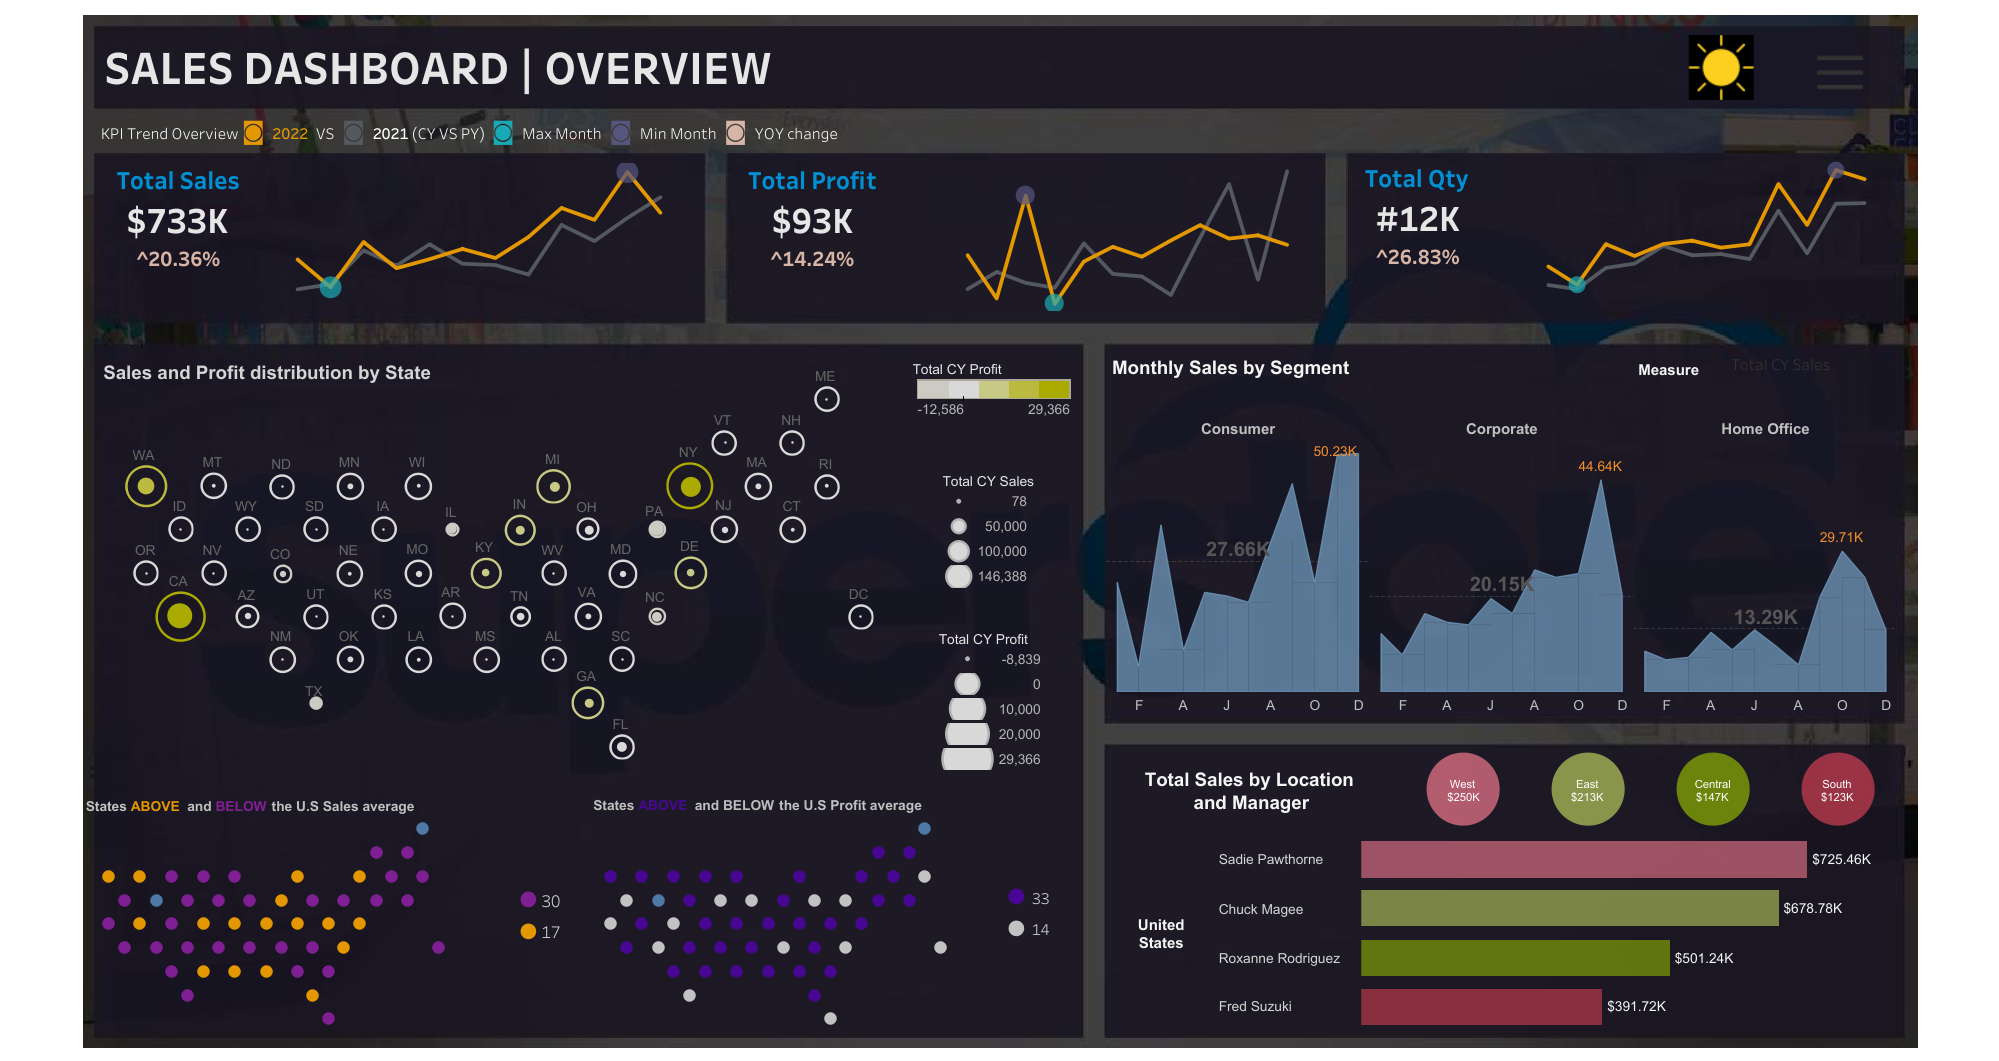

What the dashboard file says about the page in this screenshot:
{"tool":"tableau","page":{"name":"Sales Dashboard","canvas":[1600,850],"ordinal":0},"visuals":[{"type":"image","param":"Image/Sales Dashboard Background2.jpg","box":[8,8,1584,834]},{"type":"text","box":[81,15,674,74]},{"type":"dashboard-object","box":[1331,28,93,52]},{"type":"dashboard-object","box":[1452,38,40,41]},{"type":"filter","title":"Sales and Profit by State","param":"[federated.1pzyr8e11kxqex18cvanc1k8l3iu].[none:Category:nk]","box":[1274,39,177,61]},{"type":"text","box":[78,78,703,53]},{"type":"filter","title":"Sales and Profit by State","param":"[federated.1pzyr8e11kxqex18cvanc1k8l3iu].[none:Region:nk]","box":[1274,100,177,61]},{"type":"worksheet","title":"Qty KPI ","mark":"Automatic","box":[1081,125,130,129]},{"type":"worksheet","title":"Qty Sparkline ","mark":"Automatic","rows":["min max month (copy)_412923808393756688"],"cols":["Order Date"],"box":[1211,125,307,129]},{"type":"worksheet","title":"Sales KPI","mark":"Automatic","box":[79,126,148,126]},{"type":"worksheet","title":"Sales Sparkline","mark":"Automatic","rows":["Calculation_412923808385138702"],"cols":["Order Date"],"box":[227,126,331,126]},{"type":"worksheet","title":"Profit KPI","mark":"Automatic","box":[586,126,160,126]},{"type":"worksheet","title":" Profit Sparkline ","mark":"Automatic","rows":["min max month (copy)_412923808390266895"],"cols":["Order Date"],"box":[746,126,310,126]},{"type":"filter","title":"Sales and Profit by State","param":"[federated.1pzyr8e11kxqex18cvanc1k8l3iu].[none:Ship Mode:nk]","box":[1274,161,177,61]},{"type":"text","box":[887,279,255,30]},{"type":"text","box":[1308,281,100,30]},{"type":"parameter","param":"[Parameters].[Parameter 1]","box":[1383,282,137,29]},{"type":"text","box":[80,283,393,30]},{"type":"worksheet","title":"Sales and Profit by State","mark":"Circle","rows":["Row"],"cols":["Column","Column"],"box":[72,285,655,347]},{"type":"legend","title":"Sales and Profit by State","param":"[federated.1pzyr8e11kxqex18cvanc1k8l3iu].[sum:Total CY Sales (copy)_412923808376","box":[730,285,131,88]},{"type":"worksheet","title":"Monthly Sales by Segment","mark":"Area","rows":["Calculation_412923809112645655"],"cols":["Segment","Order Date"],"box":[885,333,633,241]},{"type":"legend","title":"Sales and Profit by State","param":"[federated.1pzyr8e11kxqex18cvanc1k8l3iu].[sum:Calculation_412923808258453504:qk]","box":[753,377,101,106]},{"type":"legend","title":"Sales and Profit by State","param":"[federated.1pzyr8e11kxqex18cvanc1k8l3iu].[sum:Total CY Sales (copy)_412923808376","box":[750,503,111,127]},{"type":"worksheet","title":"Region wise Sales","mark":"Circle","cols":["Region"],"box":[1121,600,399,63]},{"type":"text","box":[892,605,215,56]},{"type":"text","box":[472,629,317,30]},{"type":"text","box":[66,630,327,30]},{"type":"worksheet","title":"Avg Sales by State","mark":"Circle","rows":["Row"],"cols":["Column"],"box":[69,644,300,190]},{"type":"worksheet","title":"Avg Profit by State ","mark":"Circle","rows":["Row"],"cols":["Column"],"box":[470,644,300,190]},{"type":"worksheet","title":"Total Sales by Location and Manager","mark":"Automatic","rows":["Country/Region","Regional Manager"],"cols":["Sales"],"box":[889,668,632,157]},{"type":"worksheet","title":"Avg Profit by state count ","mark":"Circle","rows":["Sales Avg Color (copy)_412923809082339350"],"box":[782,705,60,50]},{"type":"worksheet","title":"Avg Sales by state count","mark":"Circle","rows":["Calculation_412923809079812115"],"box":[392,707,60,50]}]}

Visuals, with their boxes in screenshot pixels (x1, y1, x2, y2), scaled from the page's 1600x850 canvas onto the 1999x1061 screenshot:
image: 10 10 1989 1051
text: 101 19 943 111
dashboard-object: 1663 35 1779 100
dashboard-object: 1814 47 1864 99
"Sales and Profit by State" filter: 1592 49 1813 125
text: 97 97 976 164
"Sales and Profit by State" filter: 1592 125 1813 201
"Qty KPI " worksheet: 1351 156 1513 317
"Qty Sparkline " worksheet: 1513 156 1897 317
"Sales KPI" worksheet: 99 157 284 315
"Sales Sparkline" worksheet: 284 157 697 315
"Profit KPI" worksheet: 732 157 932 315
" Profit Sparkline " worksheet: 932 157 1319 315
"Sales and Profit by State" filter: 1592 201 1813 277
text: 1108 348 1427 386
text: 1634 351 1759 388
parameter: 1728 352 1899 388
text: 100 353 591 391
"Sales and Profit by State" worksheet (Circle marks): 90 356 908 789
"Sales and Profit by State" legend: 912 356 1076 466
"Monthly Sales by Segment" worksheet (Area marks): 1106 416 1897 716
"Sales and Profit by State" legend: 941 471 1067 603
"Sales and Profit by State" legend: 937 628 1076 786
"Region wise Sales" worksheet (Circle marks): 1401 749 1899 828
text: 1114 755 1383 825
text: 590 785 986 823
text: 82 786 491 824
"Avg Sales by State" worksheet (Circle marks): 86 804 461 1041
"Avg Profit by State " worksheet (Circle marks): 587 804 962 1041
"Total Sales by Location and Manager" worksheet: 1111 834 1900 1030
"Avg Profit by state count " worksheet (Circle marks): 977 880 1052 942
"Avg Sales by state count" worksheet (Circle marks): 490 883 565 945
